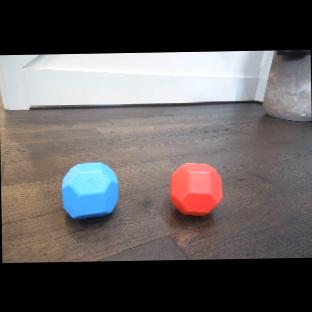V5_BLUE: (61, 161, 120, 219)
V5_RED: (169, 162, 223, 217)
